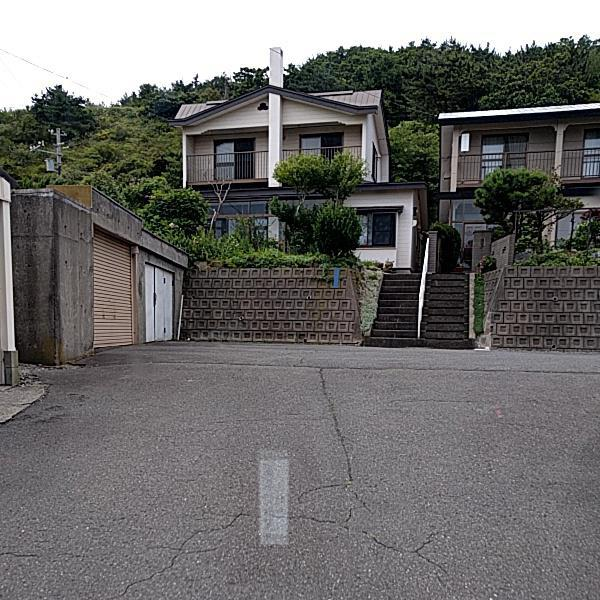D00: (313, 366, 357, 477)
D10: (388, 392, 489, 409), (1, 546, 55, 559)
D20: (96, 475, 458, 598)
